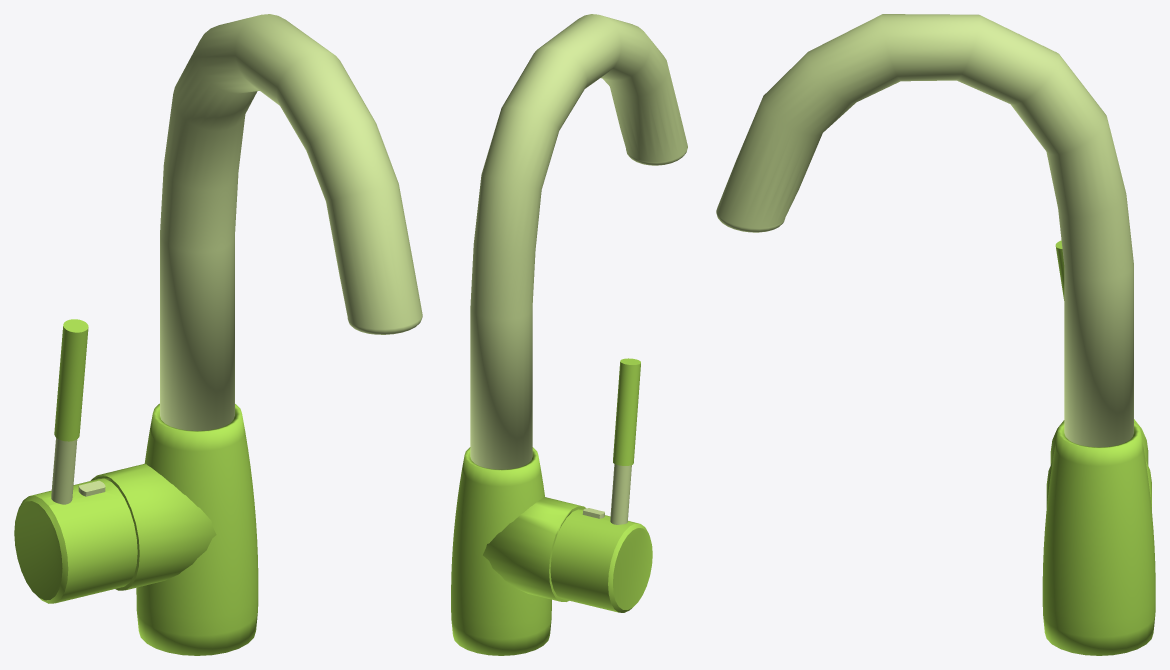
File: Faucet_Small.fbx
The picture shows the model from 3 angles, left to right: view 1: azimuth 30°, elevation 25°; view 2: azimuth 150°, elevation 25°; view 3: azimuth 270°, elevation 25°; orthographic projection. The views are drawn at different scales.
Visible parts, largest first — view 1: Faucet.003, Faucet.002; view 2: Faucet.003, Faucet.002; view 3: Faucet.003.
Boxes of the visible parts, x1,y1,x2,y2 form: Faucet.003: [90, 14, 422, 655]; Faucet.002: [14, 319, 137, 603]; Faucet.003: [451, 14, 687, 655]; Faucet.002: [550, 358, 652, 612]; Faucet.003: [716, 14, 1155, 655].
Bounding box in the file's own units: 61.44 × 184 × 119.
